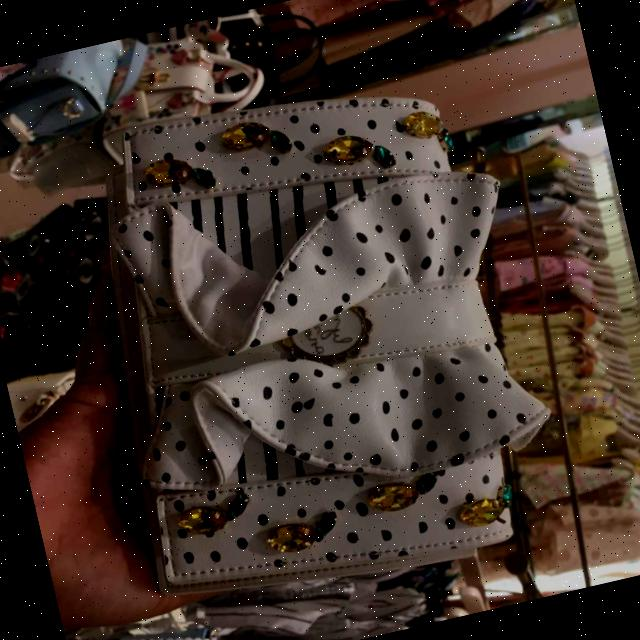Handbag: (61, 44, 580, 616)
